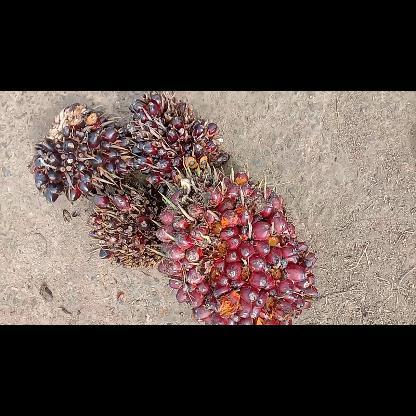TBS abnormal: (30, 104, 134, 202), (128, 91, 230, 187), (88, 184, 162, 266)
TBS masak: (158, 168, 318, 324)
